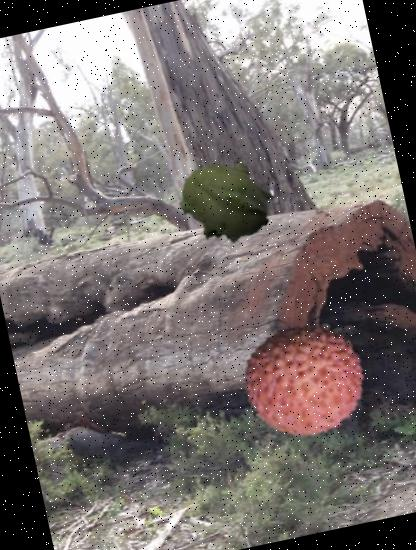Kohlrabi: (169, 146, 282, 258)
Lychee: (230, 307, 376, 454)
